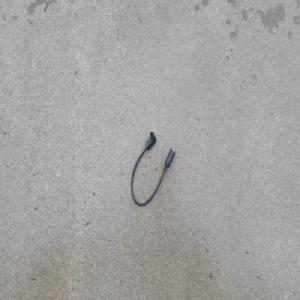Wire: (129, 129, 175, 207)
